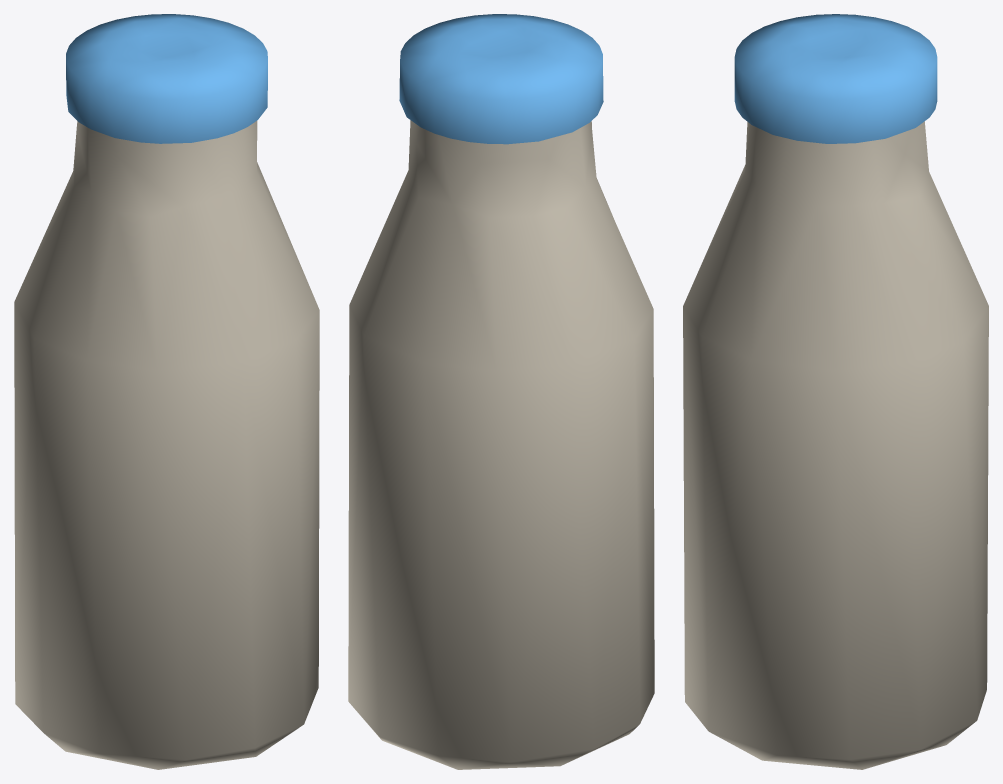
3 renders of one model, left to right at view 1: azimuth 30°, elevation 25°; view 2: azimuth 150°, elevation 25°; view 3: azimuth 270°, elevation 25°, orthographic.
Parts seen in each view (by area): view 1: milk-bottle, milk-bottlecap; view 2: milk-bottle, milk-bottlecap; view 3: milk-bottle, milk-bottlecap.
Part boxes in pixels (x1,y1,x2,y2): milk-bottle: [14, 121, 319, 769]; milk-bottlecap: [66, 14, 267, 143]; milk-bottle: [348, 120, 654, 769]; milk-bottlecap: [399, 14, 603, 144]; milk-bottle: [683, 121, 988, 769]; milk-bottlecap: [734, 14, 937, 143].
Bounding box in the file's own units: 15.78 × 38.13 × 15.78.
